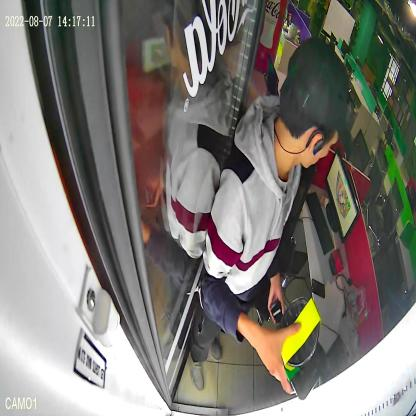green: (276, 323, 328, 401)
yellow: (280, 296, 322, 370)
